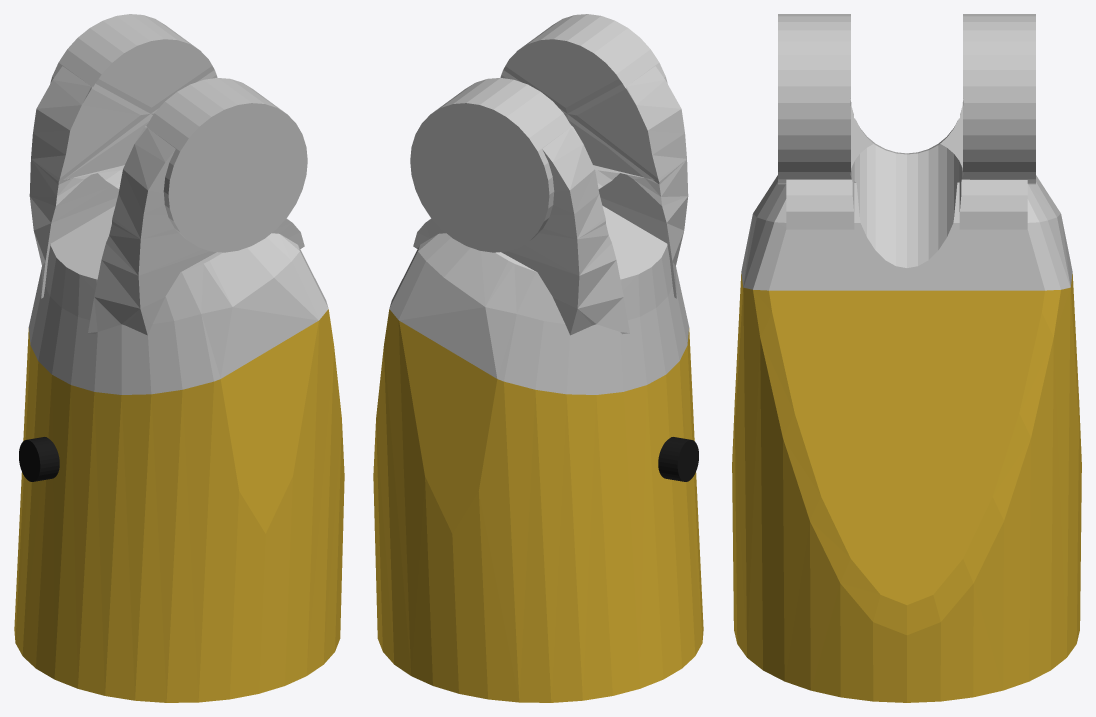
Rendered from forearm.dae.
3 views of the same model, side by side, from view 1: azimuth 30°, elevation 25°; view 2: azimuth 150°, elevation 25°; view 3: azimuth 270°, elevation 25° (orthographic). The views are drawn at different scales.
Visible parts, largest first — view 1: Forearm_mesh; view 2: Forearm_mesh; view 3: Forearm_mesh.
Part boxes in pixels (<box>): Forearm_mesh: <box>14,14,344,702</box>; Forearm_mesh: <box>373,14,703,702</box>; Forearm_mesh: <box>732,14,1081,702</box>.
Size of the model in its own units: 0.1224 by 0.1199 by 0.2298.
